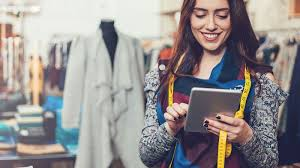middle_eastern_Female: (190, 1, 238, 52)
